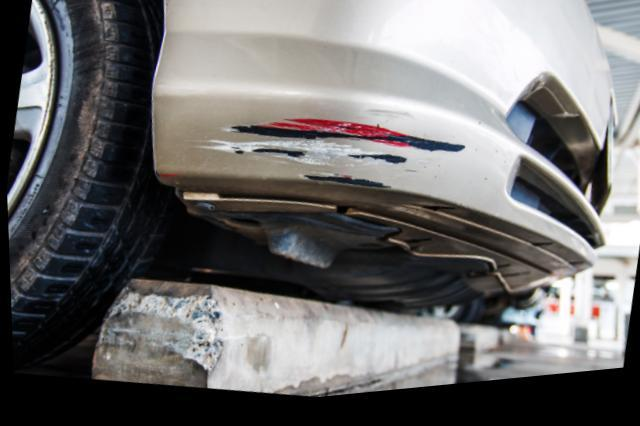scratch: (194, 108, 470, 200)
